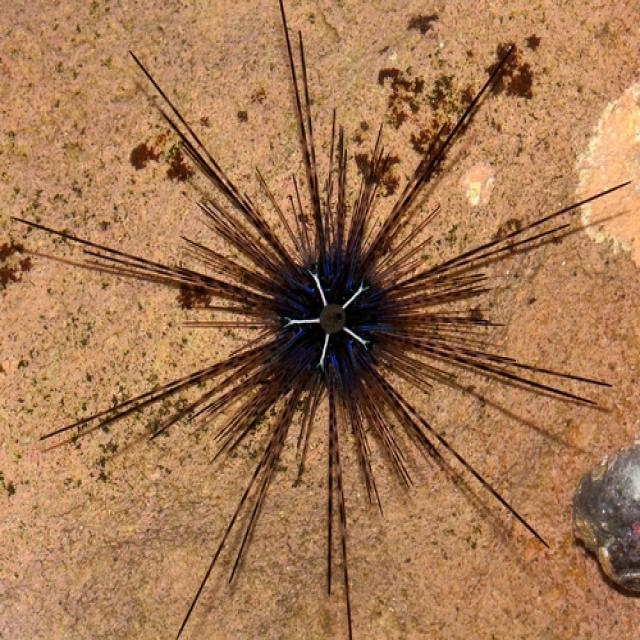Urchin: (10, 3, 634, 631)
